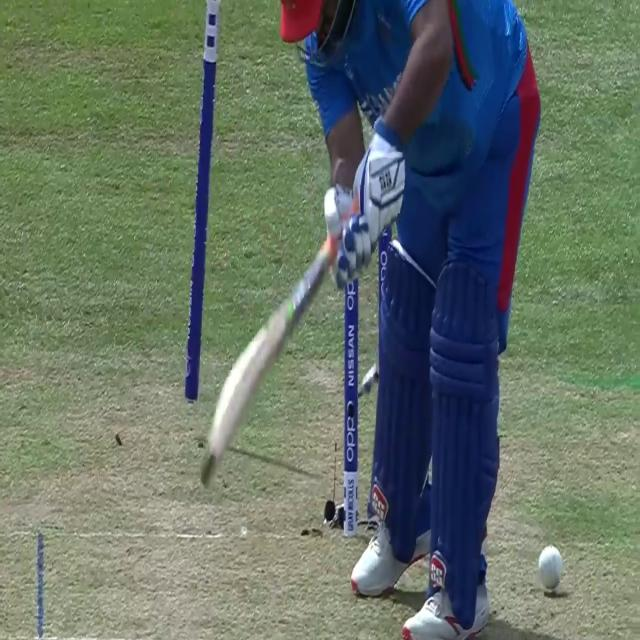ball: (538, 547, 563, 589)
